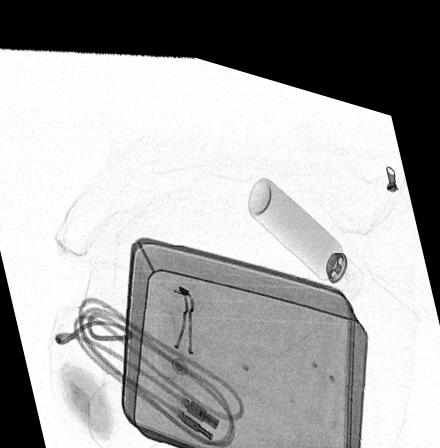Sprayer: (249, 162, 364, 276)
